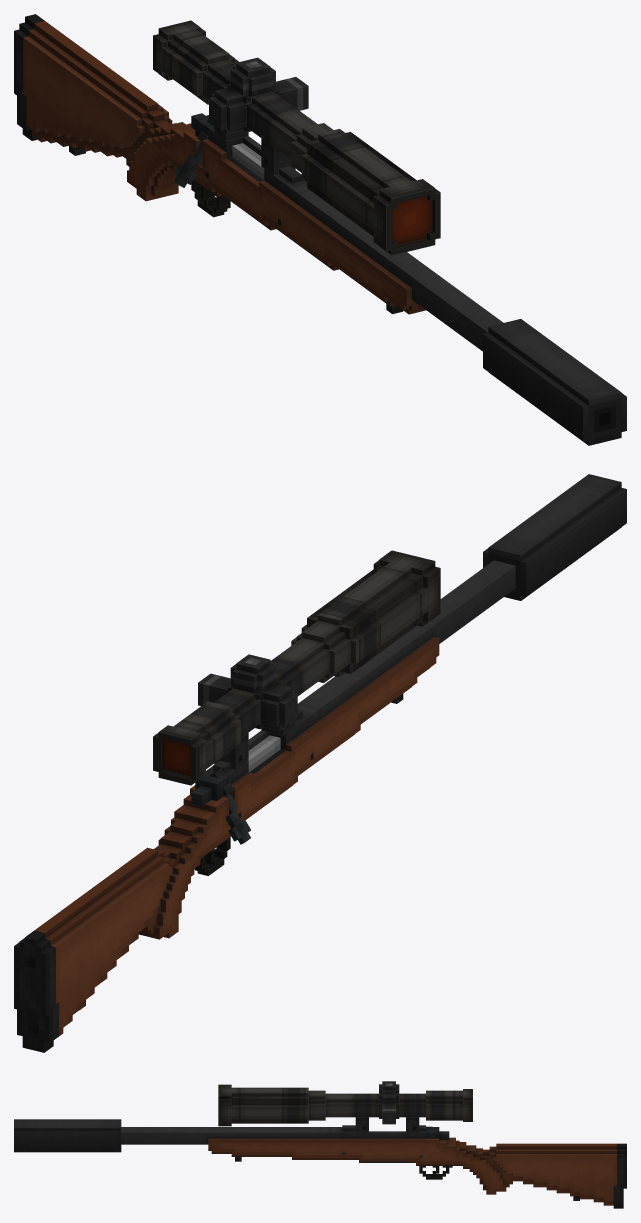
3 renders of one model, top to bottom at view 1: azimuth 30°, elevation 25°; view 2: azimuth 150°, elevation 25°; view 3: azimuth 270°, elevation 25°, orthographic. The views are drawn at different scales.
Parts seen in each view (by area): view 1: M700_BODY, SCOPE, SILENCER_6X6, M700_BOLT_PART1, M700_BOLT_PART2; view 2: M700_BODY, SCOPE, SILENCER_6X6, M700_BOLT_PART1, M700_BOLT_PART2; view 3: M700_BODY, SCOPE, SILENCER_6X6, M700_BOLT_PART1.
Boxes of the visible parts, x1,y1,x2,y2 form: M700_BODY: [14, 14, 503, 351]; SCOPE: [153, 20, 440, 255]; SILENCER_6X6: [483, 319, 626, 445]; M700_BOLT_PART1: [191, 113, 264, 179]; M700_BOLT_PART2: [173, 118, 213, 187]; M700_BODY: [14, 560, 515, 1052]; SCOPE: [153, 550, 440, 785]; SILENCER_6X6: [483, 474, 626, 600]; M700_BOLT_PART1: [191, 735, 280, 806]; M700_BOLT_PART2: [209, 768, 250, 844]; M700_BODY: [121, 1125, 626, 1208]; SCOPE: [218, 1081, 472, 1132]; SILENCER_6X6: [14, 1119, 121, 1152]; M700_BOLT_PART1: [426, 1127, 449, 1140].
Bounding box in the file's own units: 0.1575 × 0.3937 × 1.8.
Materials: 3 (3 with a texture image).
